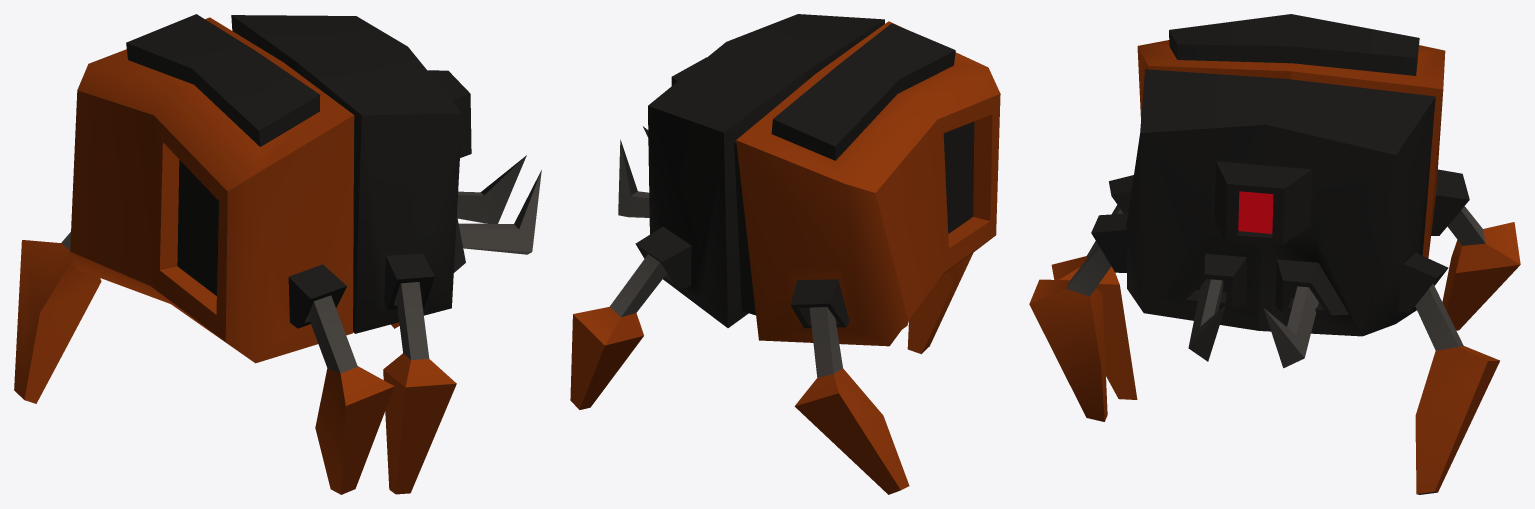
File: SPIDBOT10.obj
3 views of the same model, side by side, from view 1: azimuth 30°, elevation 25°; view 2: azimuth 150°, elevation 25°; view 3: azimuth 270°, elevation 25° (orthographic). The views are drawn at different scales.
Parts seen in each view (by area): view 1: Cube.001; view 2: Cube.001; view 3: Cube.001.
Boxes of the visible parts, bbox=[...] form: Cube.001: bbox=[14, 14, 541, 494]; Cube.001: bbox=[570, 14, 1000, 494]; Cube.001: bbox=[1029, 14, 1520, 494].
Size of what is drawn, in the model's own units: 3.18 by 2.79 by 3.48.
